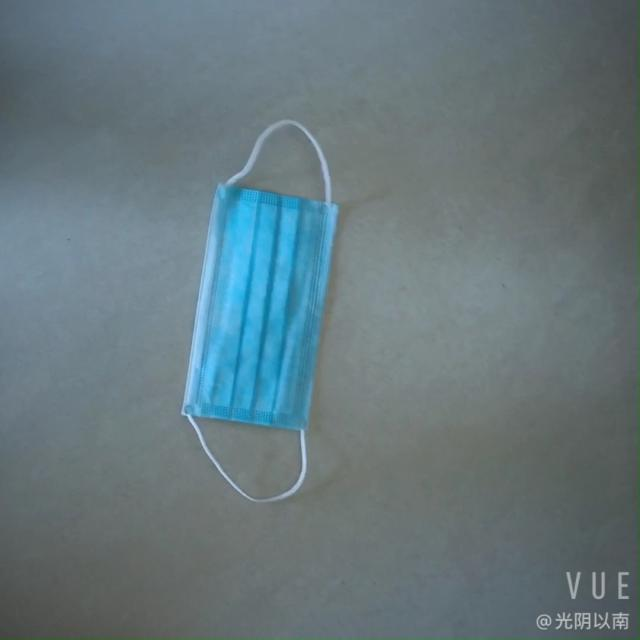face mask: (170, 185, 352, 435)
